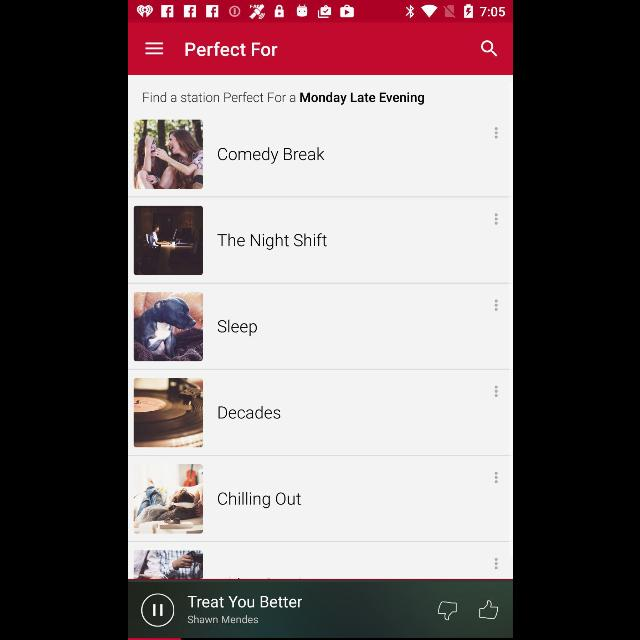icon: (479, 41, 496, 58), (144, 42, 162, 56), (494, 472, 498, 484), (494, 299, 498, 311), (494, 127, 498, 139), (494, 557, 496, 569), (494, 386, 496, 398), (494, 214, 496, 226)
image: (132, 378, 202, 448), (132, 293, 202, 362), (132, 120, 202, 188), (134, 464, 202, 534), (134, 207, 202, 276), (134, 551, 202, 579), (140, 593, 173, 627), (478, 600, 498, 620), (438, 602, 457, 620)
text: (142, 92, 424, 106), (216, 233, 326, 250), (216, 148, 324, 164), (186, 596, 302, 608), (218, 492, 300, 508), (185, 42, 277, 56), (218, 406, 280, 418), (186, 614, 258, 624), (218, 320, 256, 336)
toolbar: (128, 23, 512, 75)
uppertaskbar: (128, 1, 512, 23)
